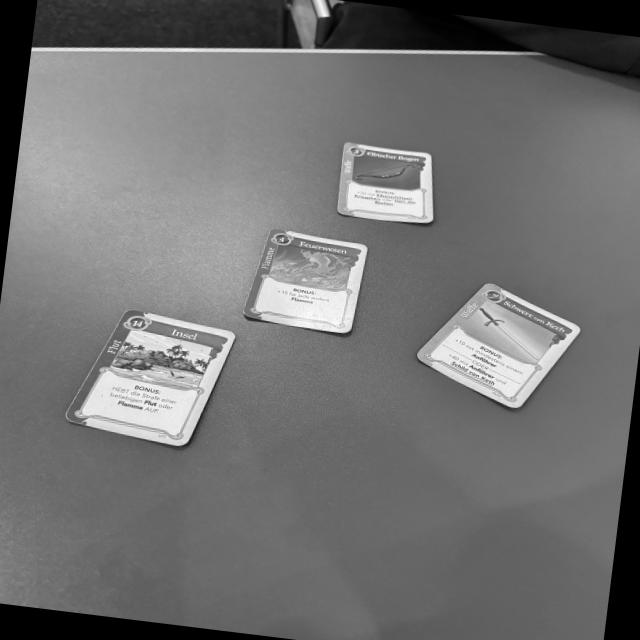Elven Longbow: (335, 139, 435, 229)
Fire Elemental: (238, 225, 371, 336)
Island: (60, 304, 238, 451)
Sword of Keth: (412, 279, 581, 412)
